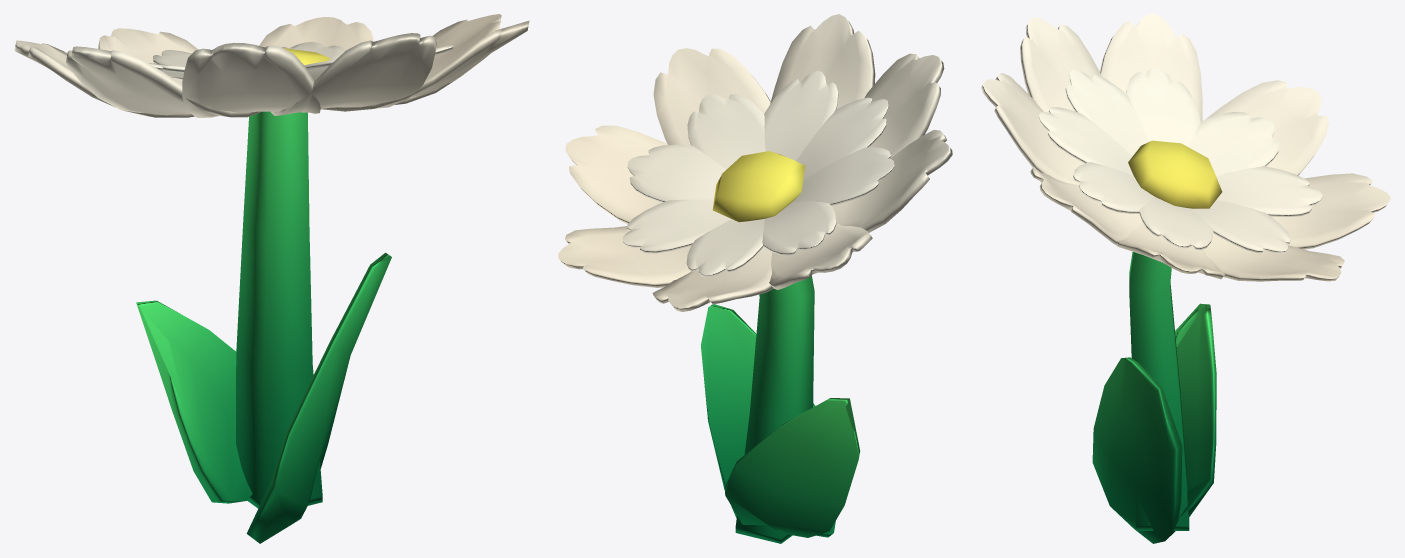
File: FlorBlanca.fbx
The picture shows the model from 3 angles, left to right: view 1: azimuth 30°, elevation 25°; view 2: azimuth 150°, elevation 25°; view 3: azimuth 270°, elevation 25°; orthographic projection. The views are drawn at different scales.
Visible parts, largest first — view 1: Flor1a; view 2: Flor1a; view 3: Flor1a.
Part boxes in pixels (x1,y1,x2,y2): Flor1a: (14,14,529,543); Flor1a: (558,14,952,543); Flor1a: (981,14,1390,543).
Bounding box in the file's own units: 87.77 × 106 × 83.86.
